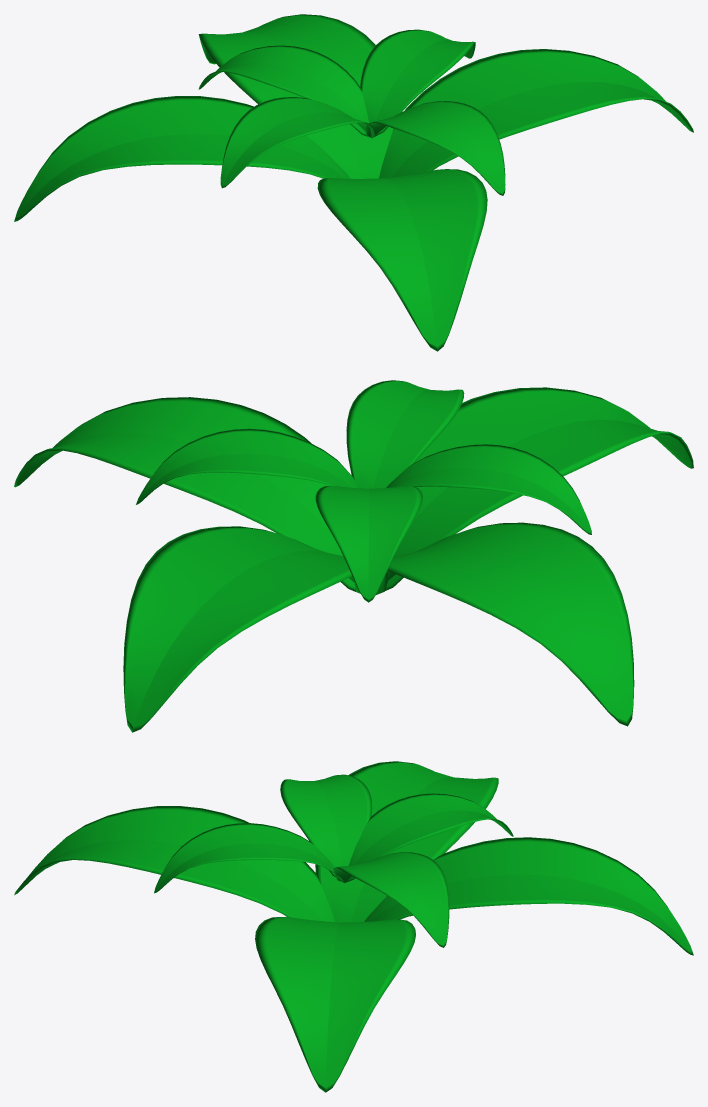
The model's file is PalmGrass2.fbx.
3 views of the same model, one above another, from view 1: azimuth 30°, elevation 25°; view 2: azimuth 150°, elevation 25°; view 3: azimuth 270°, elevation 25° (orthographic). The views are drawn at different scales.
Visible parts, largest first — view 1: PalmGrass2; view 2: PalmGrass2; view 3: PalmGrass2.
Part boxes in pixels (x1,y1,x2,y2): PalmGrass2: (14, 14, 693, 351); PalmGrass2: (14, 380, 693, 732); PalmGrass2: (14, 761, 693, 1092).
Bounding box in the file's own units: 10.85 × 10.95 × 2.17.
